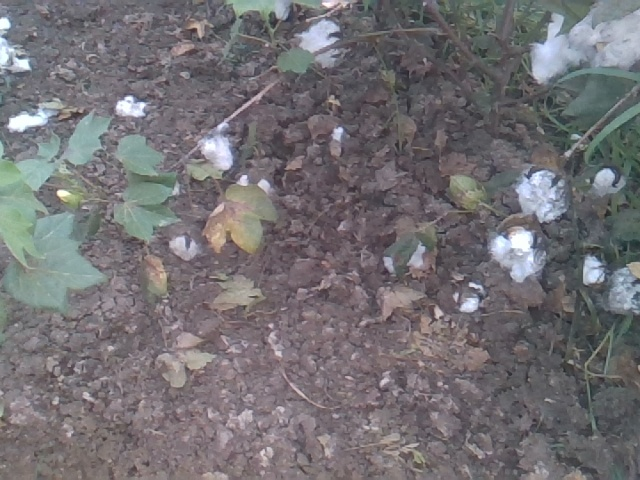cotton: (570, 1, 640, 75), (528, 11, 587, 87), (515, 164, 573, 226), (290, 18, 350, 70), (490, 224, 545, 280), (605, 258, 640, 322), (196, 121, 237, 175), (583, 162, 626, 198), (165, 228, 200, 262), (580, 252, 608, 292)
